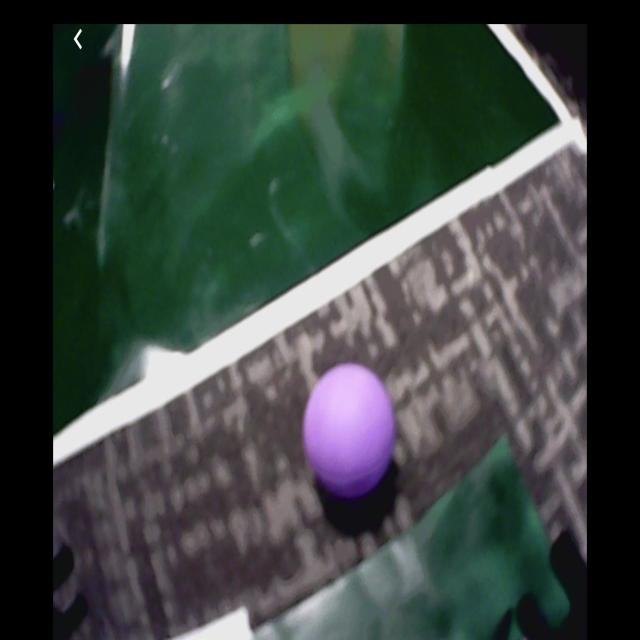ball: (302, 364, 397, 502)
